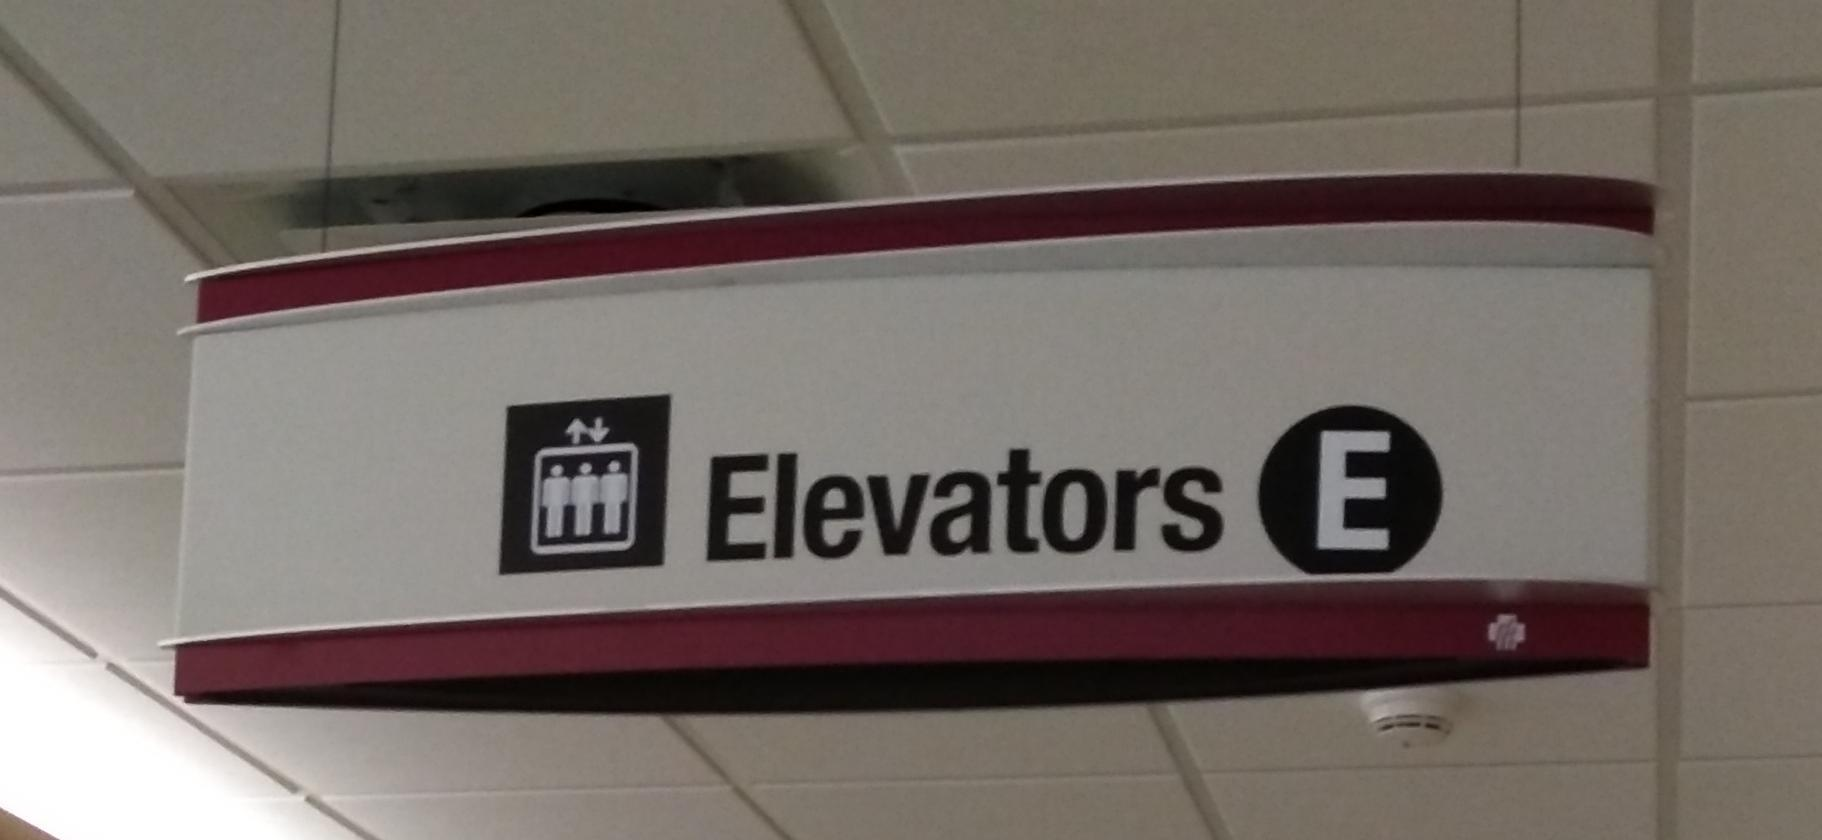sign: (151, 165, 1660, 715)
